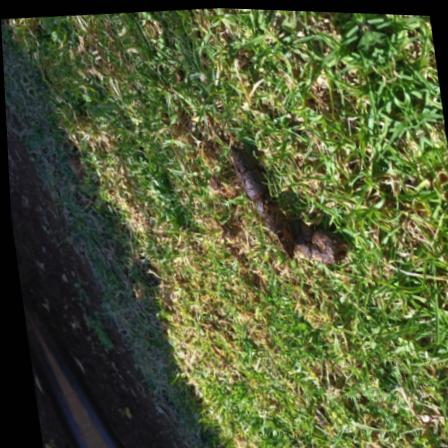dog-poop: (225, 131, 346, 274)
